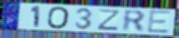1: (30, 5, 42, 28)
3: (74, 7, 95, 31)
E: (147, 9, 173, 34)
O: (47, 6, 71, 30)
R: (122, 9, 147, 33)
Z: (96, 8, 122, 31)
